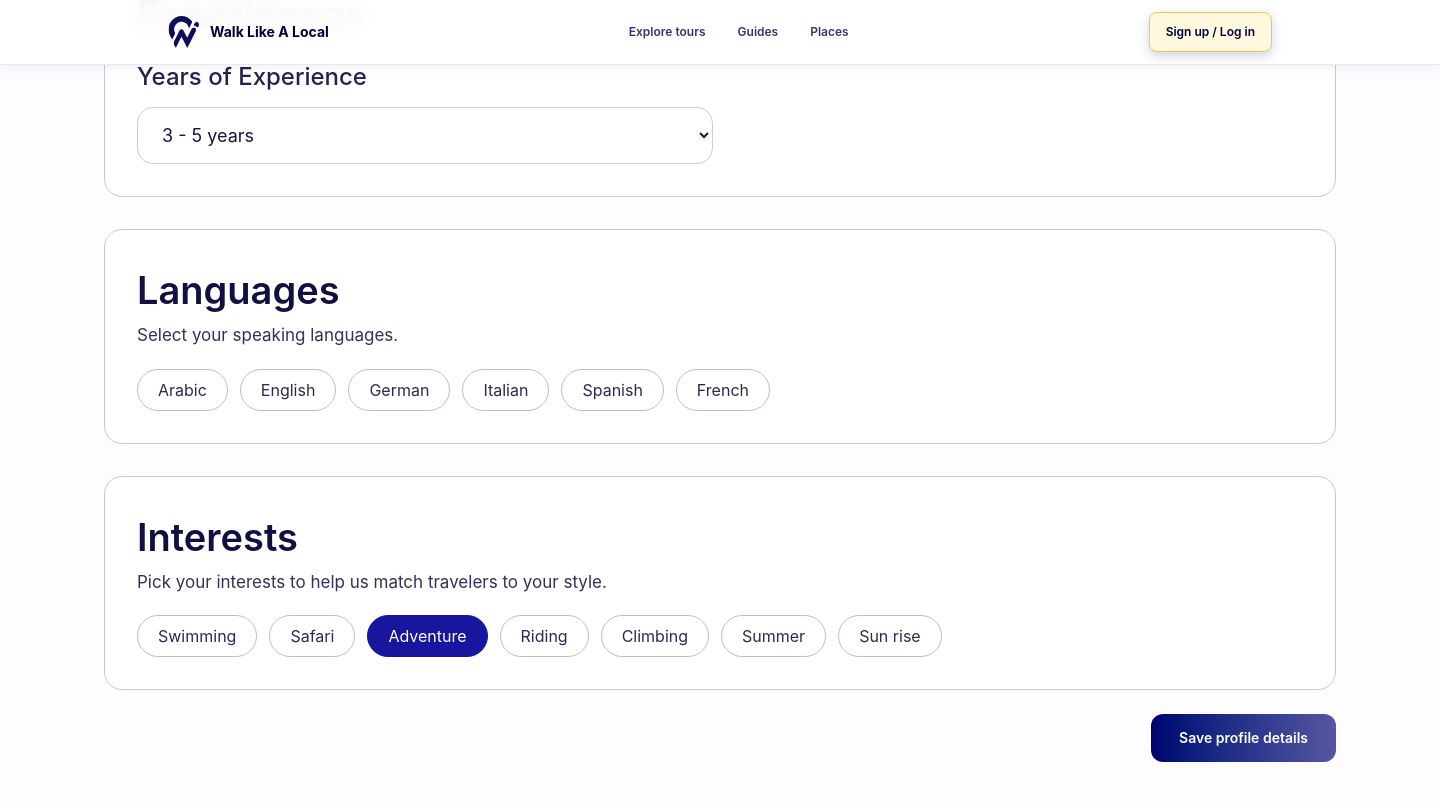
Test case: GuideCompleteProfilePage › shows and saves guide location in the profile-details tab
(page scrolled)
Click the button "Save profile details". click: (1244, 738)
box: [1151,714,1336,762]
(page scrolled)
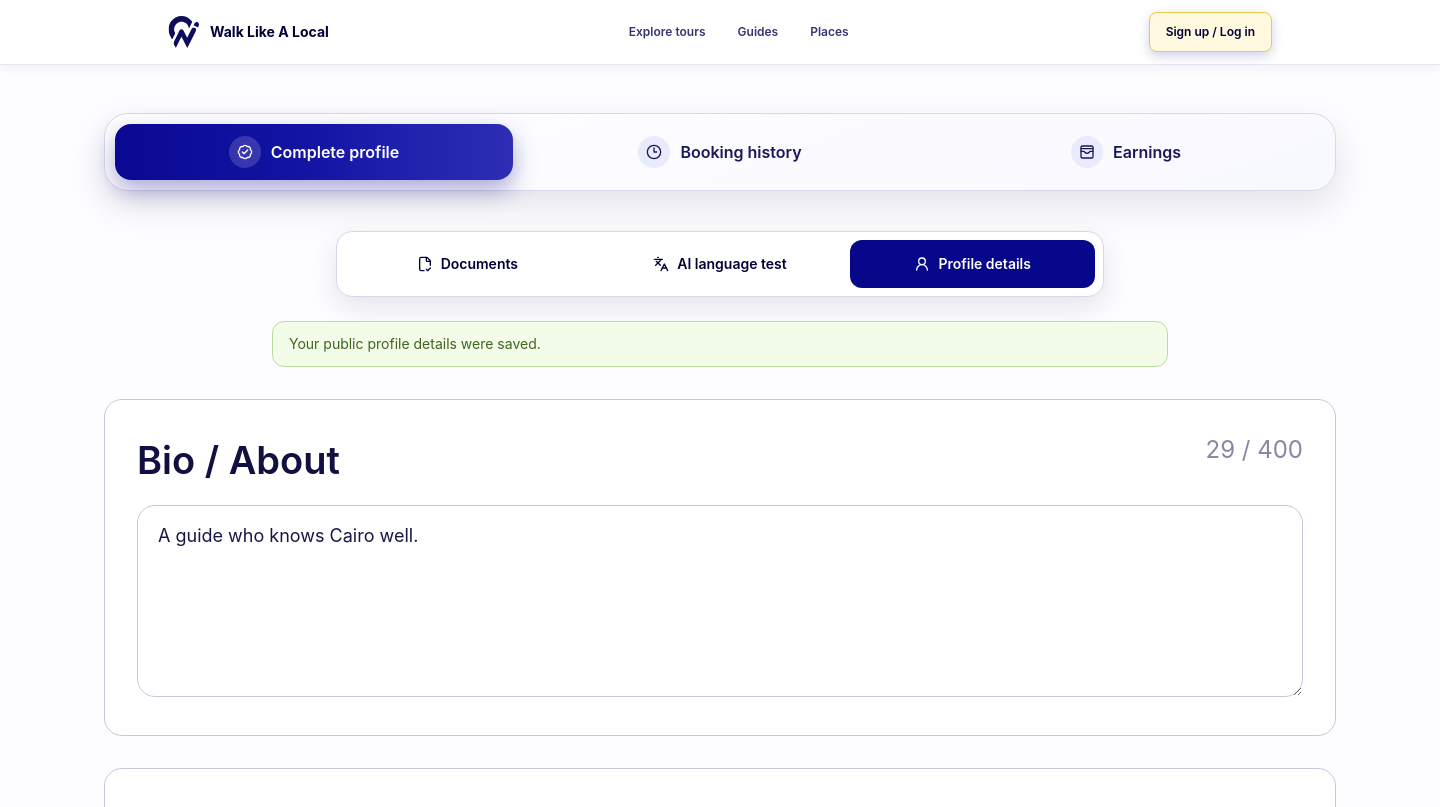
Check: the message reads "Your public profile details were saved.", box [289,335,541,352]
